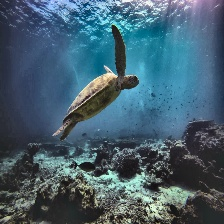seaturtle: (52, 25, 140, 142), (52, 66, 139, 142)
